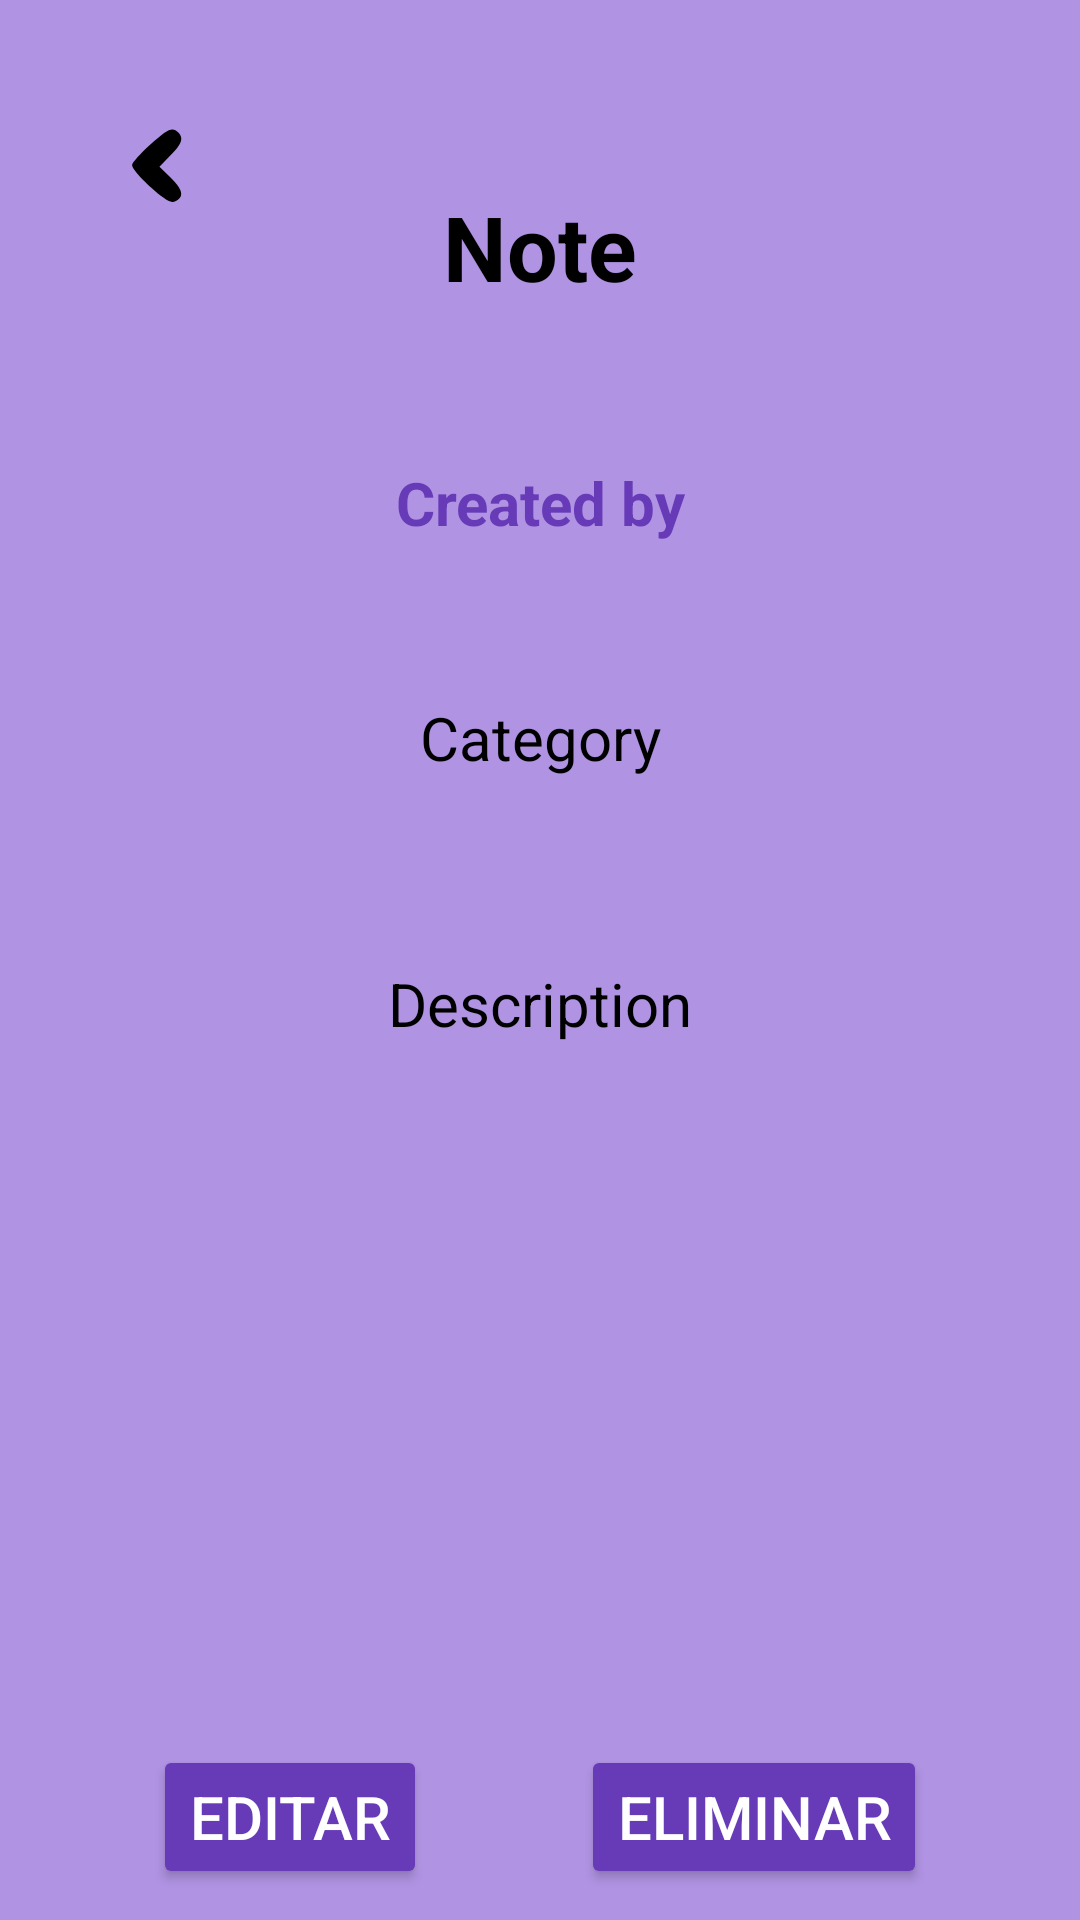

Icon bounding boxes for this 1080px×1920px phone screenshot, format bbox(x1, y1, x2, y2):
volver: bbox(132, 129, 182, 202)
